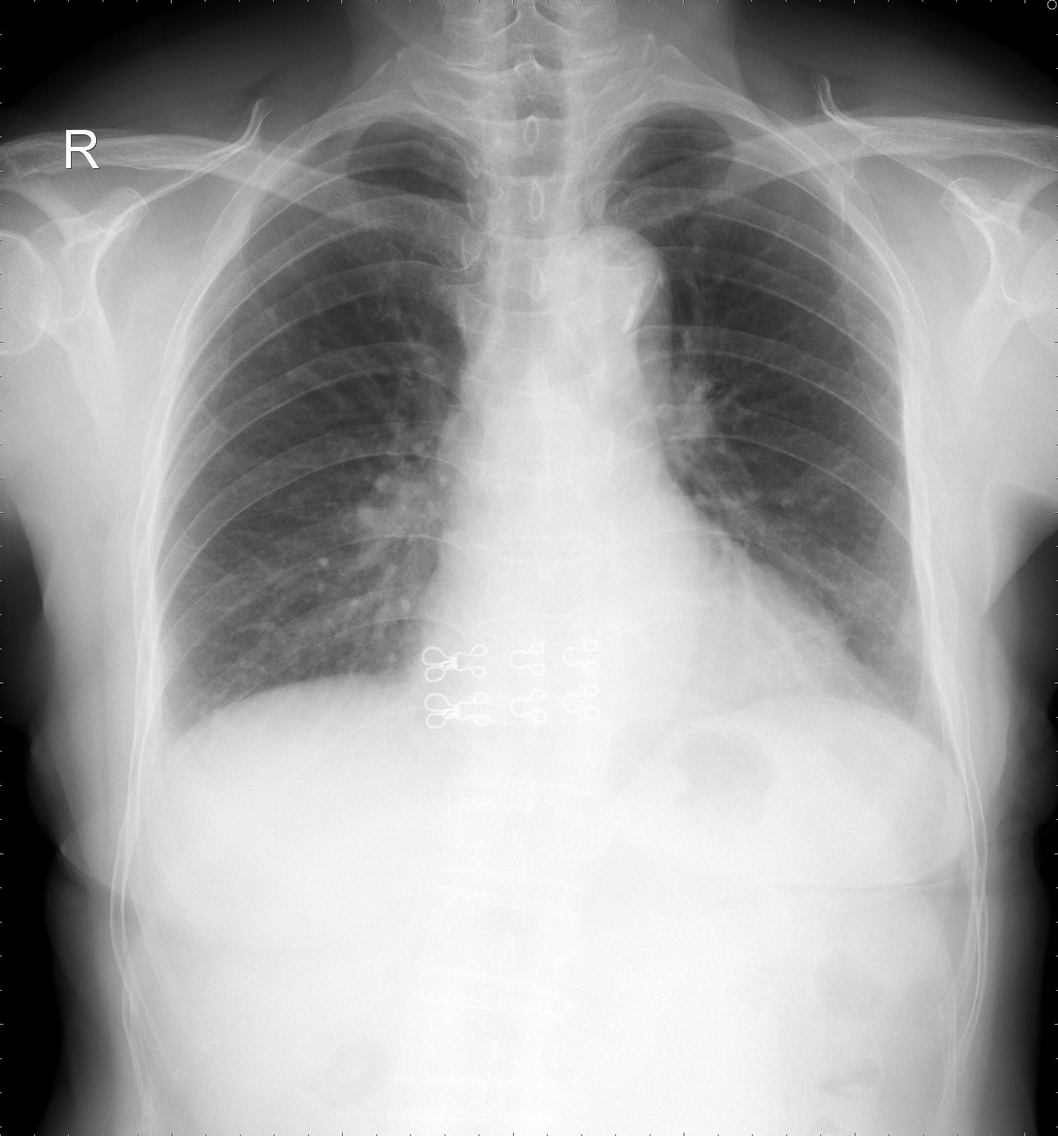Aortic enlargement: (533, 219, 673, 356)
Cardiomegaly: (399, 561, 878, 725)
Pleural thickening: (130, 653, 190, 802)
